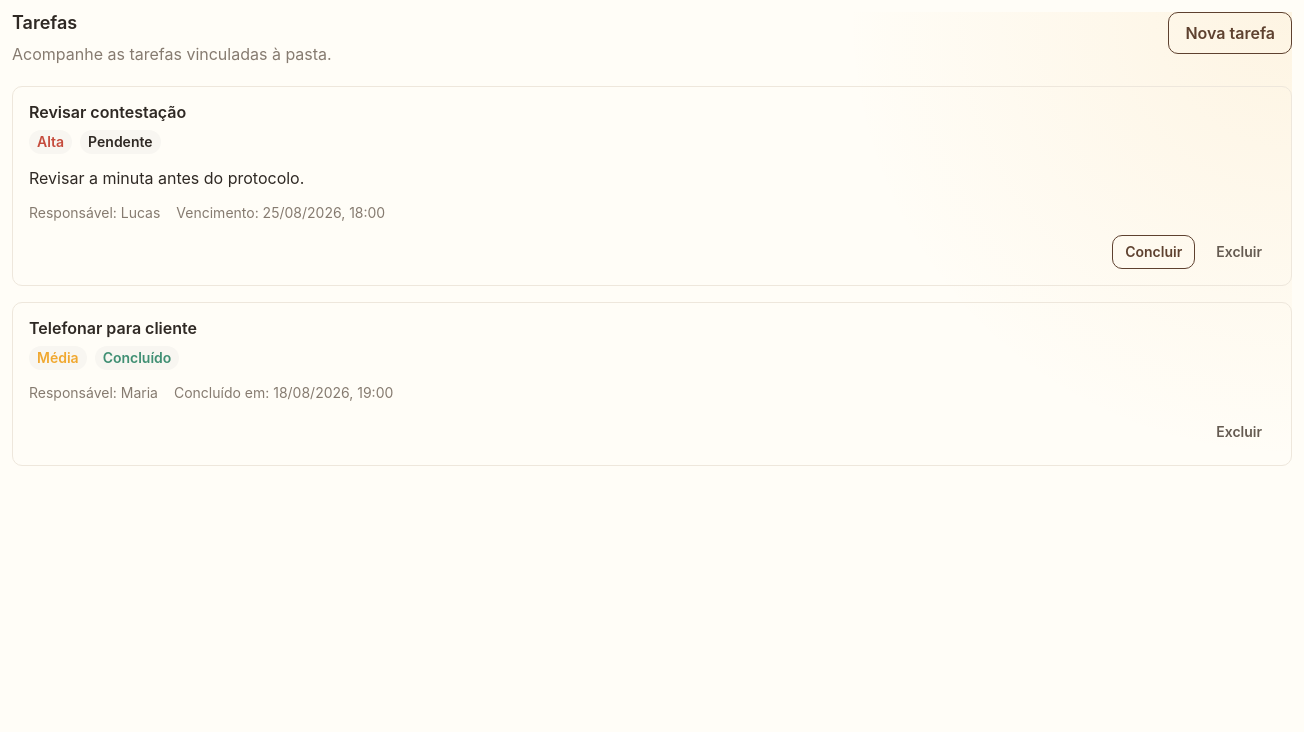
FolderTasks › abre formulário para criar tarefa
Click the button "Nova tarefa": {"x": 1230, "y": 33} [1168,12,1292,54]
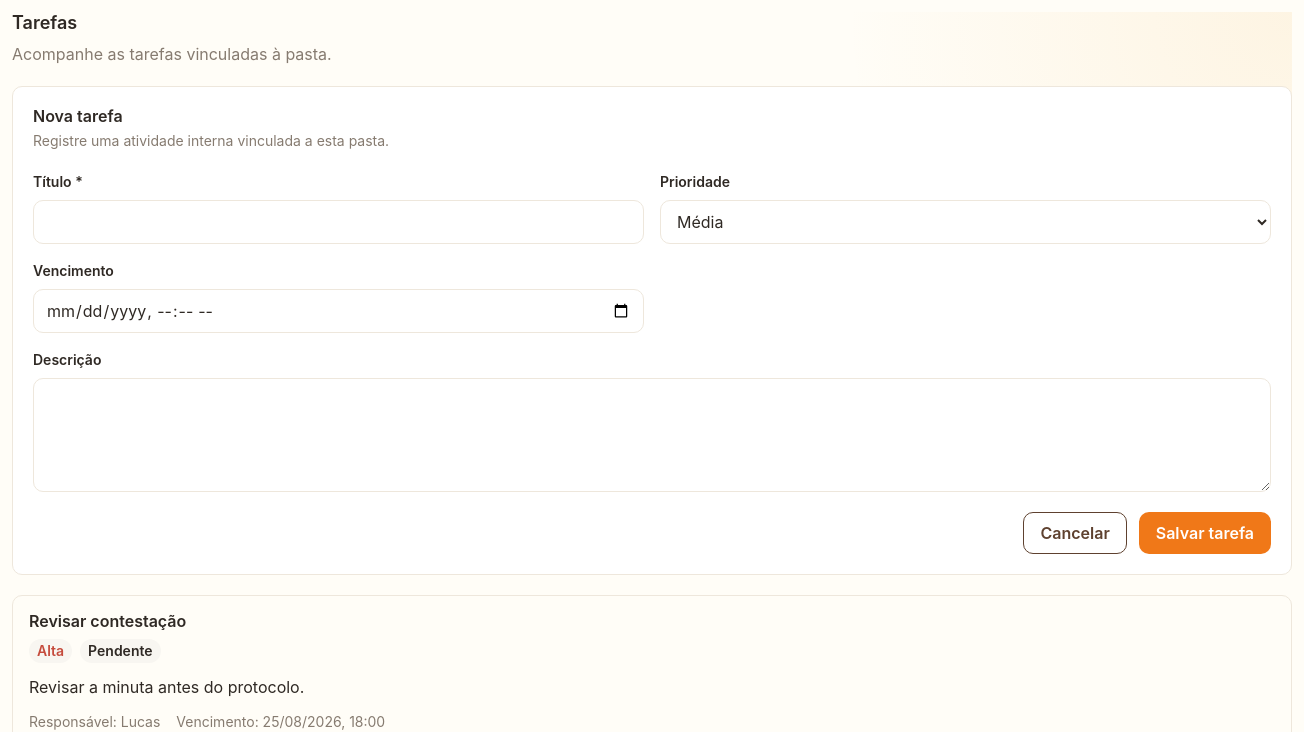
Expected: the field named "title" is shown, [33,200,644,244]
Expected: the dropdown named "priority" is shown, [660,200,1271,244]
Expected: the field named "due_at" is shown, [33,289,644,333]
